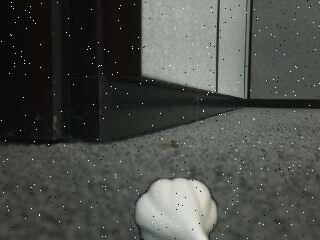Garlic: (134, 178, 219, 240)
